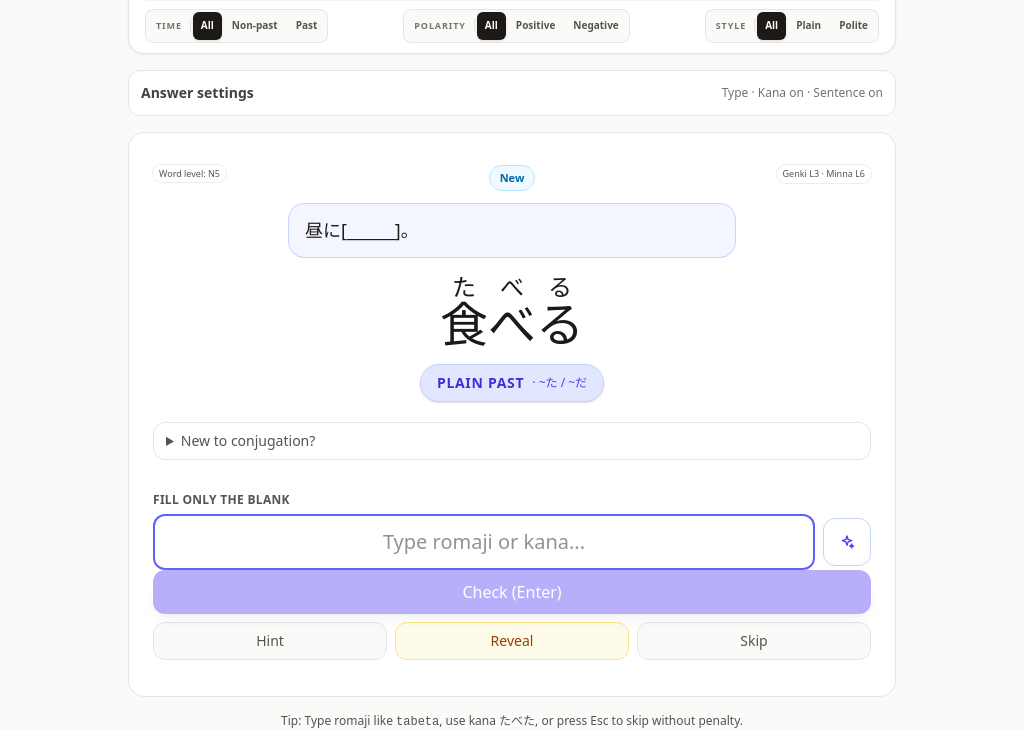
Scenario: StudyView continuous Practice startup › refreshes expired entries for exact retries while keeping the active sentence frozen
(page scrolled)
expect the element showing "昼に[______]。" is shown: met, box [288,203,736,258]
Click the button "Reveal". click: click(512, 641)
box: [395,622,629,660]
(page scrolled)
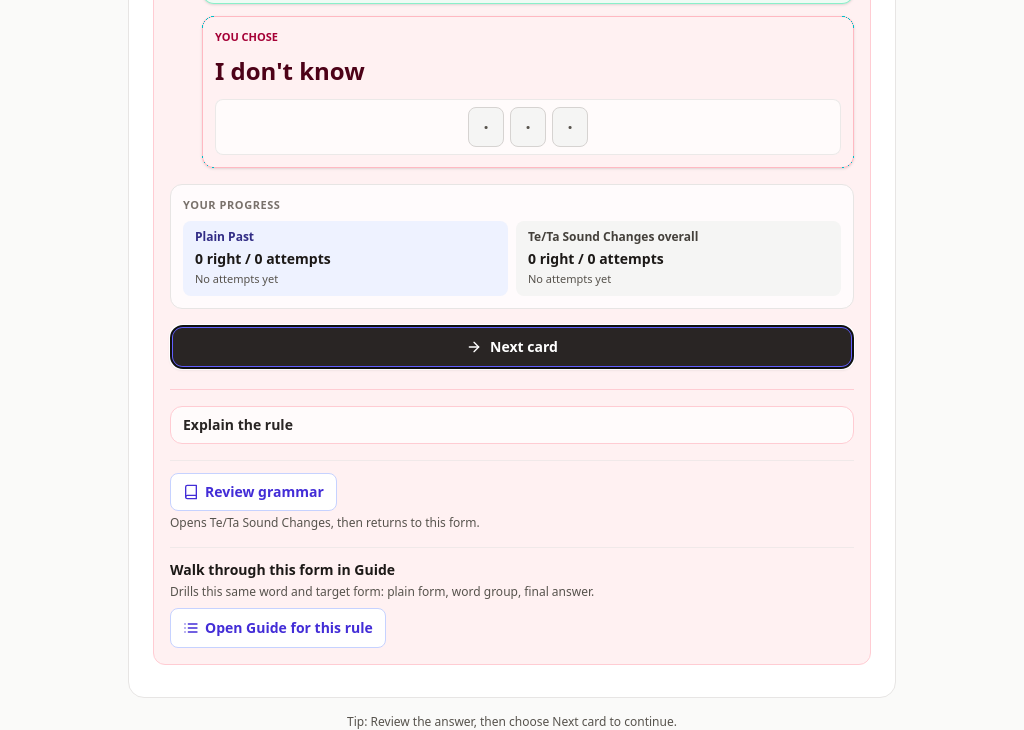
Click the button "Next card". click: click(512, 347)
box: [170,325,854,369]
Wait 2 ms
(page scrolled)
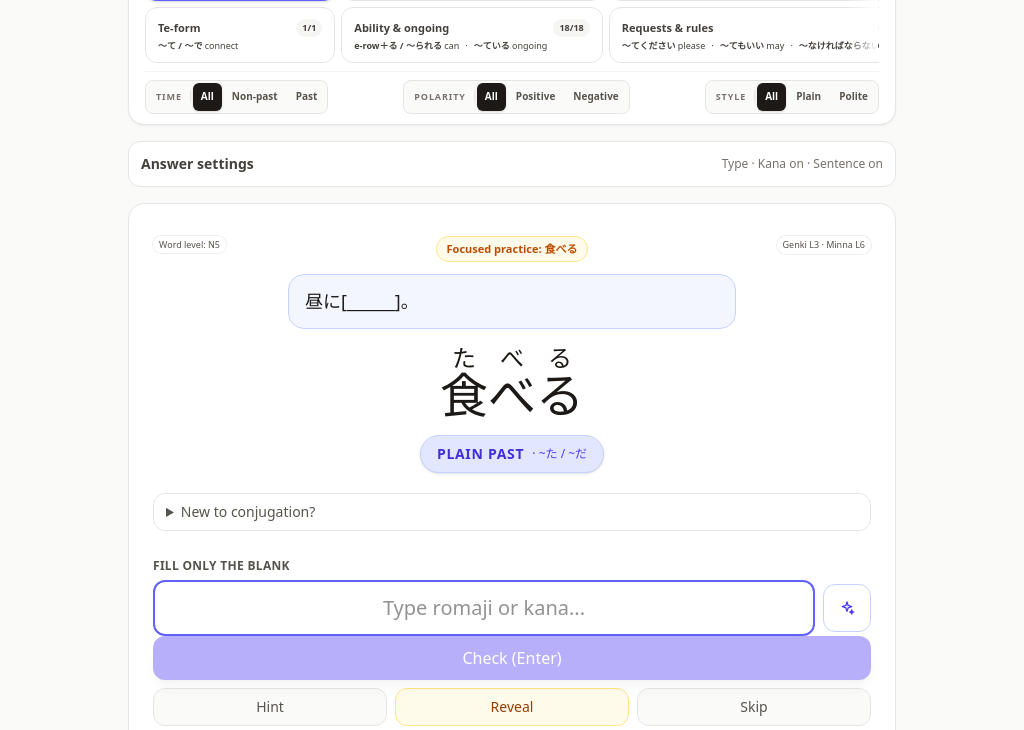
expect the element showing "昼に[______]。" is shown: met, box [288,274,736,329]
Click the button "Reveal". click: click(512, 707)
box: [395,688,629,726]
(page scrolled)
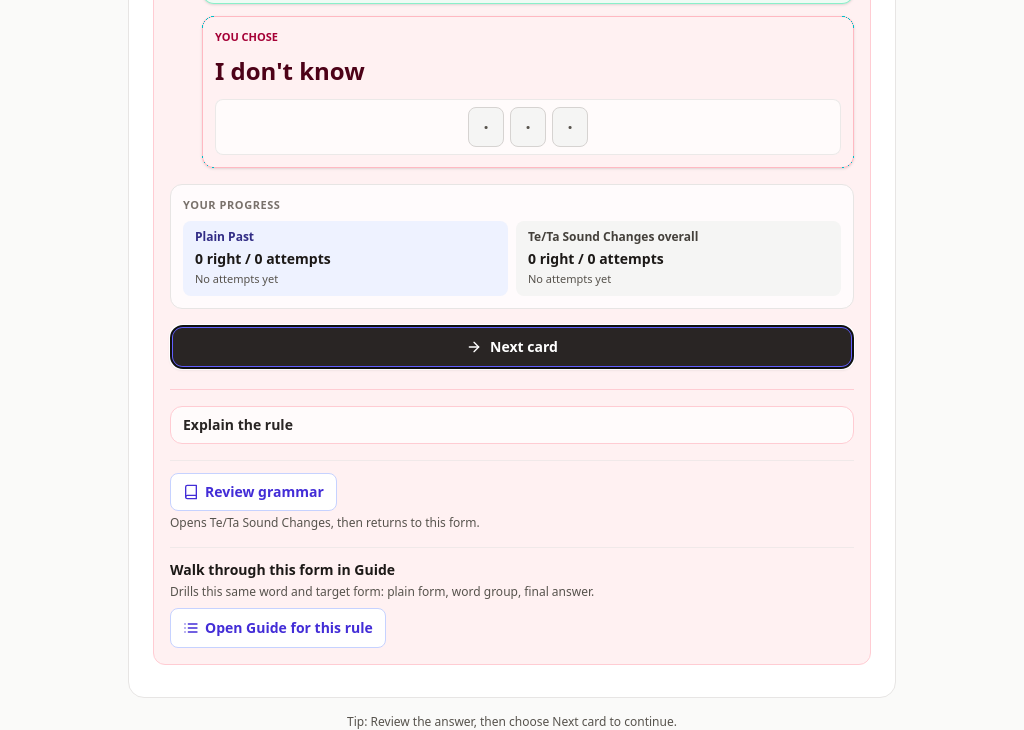
expect the text "夜" is not shown: met
Click the button "Next card". click: click(512, 347)
box: [170,325,854,369]
(page scrolled)
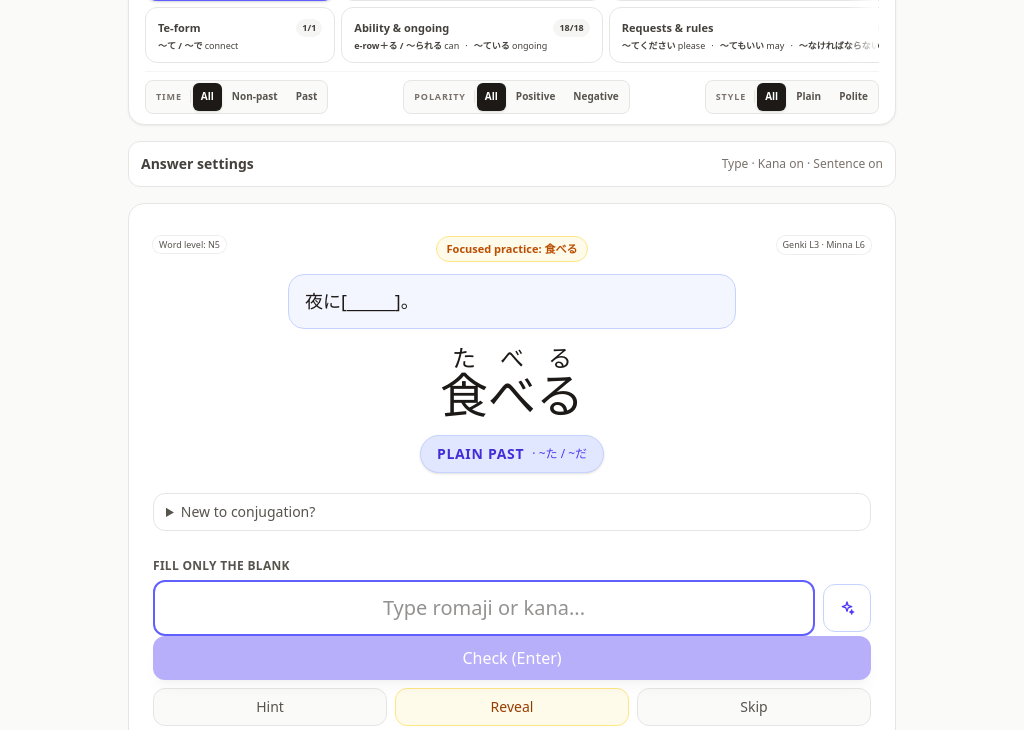
expect the element showing "夜に[______]。" is shown: met, box [288,274,736,329]
